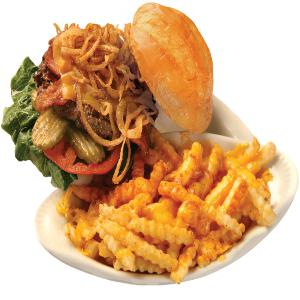cheeseburger: (4, 3, 226, 188)
fries: (56, 128, 288, 282)
